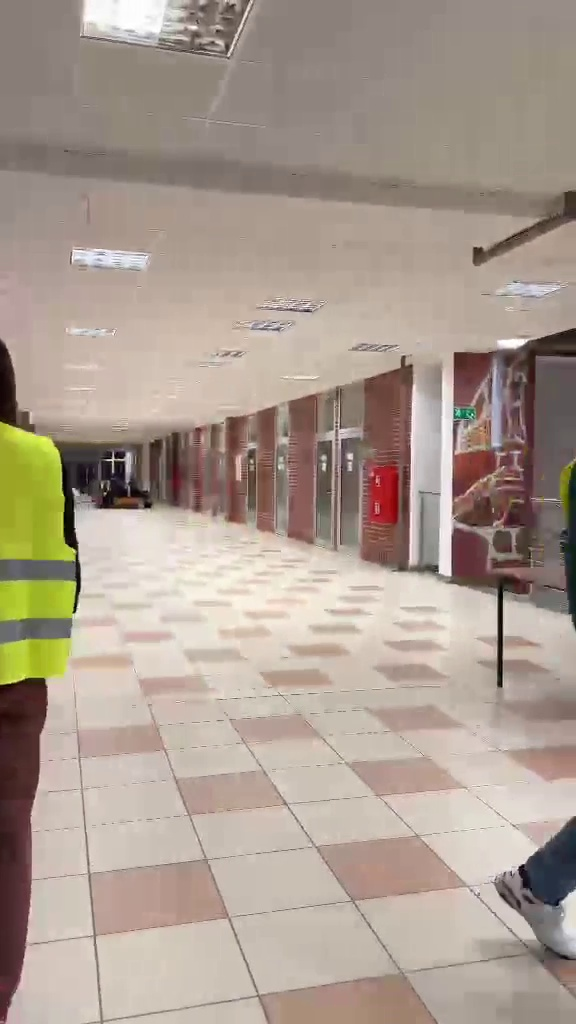vest: (0, 337, 91, 1003)
